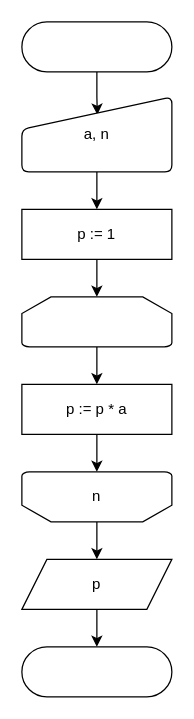
Some shapes in this 194 by 719 pixel diagram are drawn without their labels. The centre of each missing label's shape, as x and y in pixels:
i := 1: point 96,321
Конец: point 96,671
Начало: point 96,46
